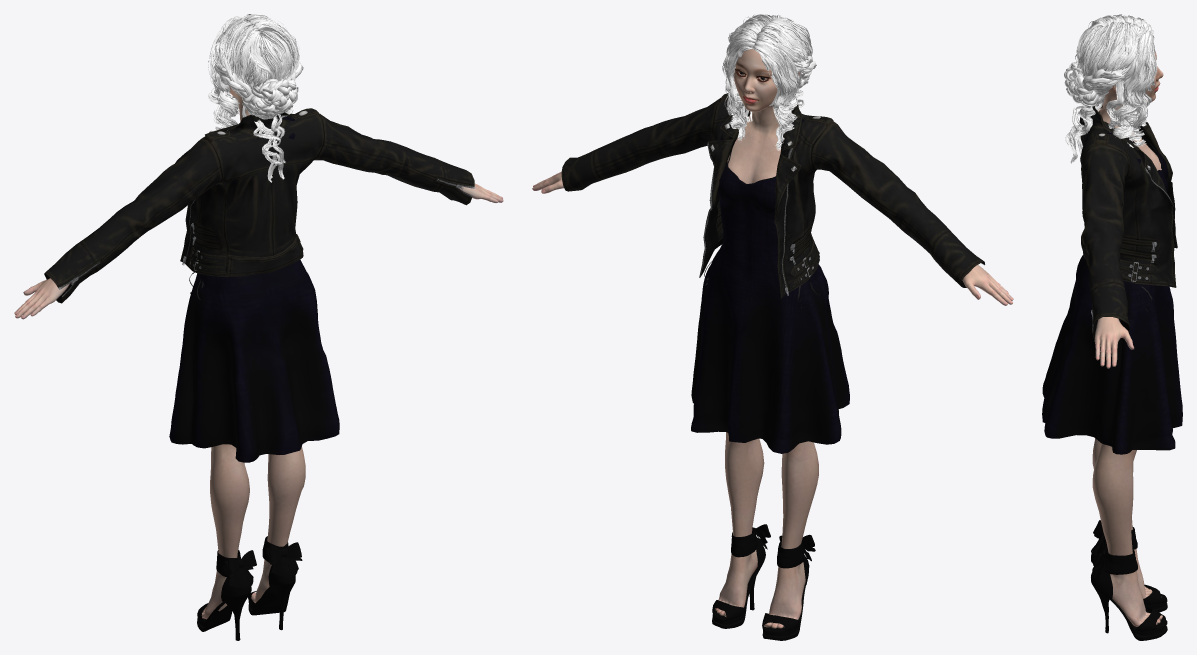
Rendered from girl3.fbx.
3 renders of one model, left to right at view 1: azimuth 30°, elevation 25°; view 2: azimuth 150°, elevation 25°; view 3: azimuth 270°, elevation 25°, orthographic.
Parts seen in each view (by area): view 1: Punk_Leather_Jacket_Punk_Leather_jacket_0, Dress_Dress_0, skin0, High_Heel_C_High_Heel_0, hair_13_338711_Shape_Hair_Transparency_0, hair_13_338711_Shape_Hair_Transparency_0_1, hair_13_338711_Shape_Hair_Transparency_0_4, hair_13_338711_Shape_Hair_Transparency_0_2, hair_13_338711_Shape_Hair_Transparency_0_3; view 2: Dress_Dress_0, Punk_Leather_Jacket_Punk_Leather_jacket_0, skin0, High_Heel_C_High_Heel_0, hair_13_338711_Shape_Hair_Transparency_0_4, hair_13_338711_Shape_Hair_Transparency_0, hair_13_338711_Shape_Hair_Transparency_0_2, hair_13_338711_Shape_Hair_Transparency_0_1, hair_13_338711_Shape_Hair_Transparency_0_3; view 3: Dress_Dress_0, Punk_Leather_Jacket_Punk_Leather_jacket_0, skin0, High_Heel_C_High_Heel_0, hair_13_338711_Shape_Hair_Transparency_0_1, hair_13_338711_Shape_Hair_Transparency_0_3, hair_13_338711_Shape_Hair_Transparency_0, hair_13_338711_Shape_Hair_Transparency_0_2, hair_13_338711_Shape_Hair_Transparency_0_4, hair_13_338711_Shape_Hair_Transparency_0_5.
Boxes of the visible parts, x1,y1,x2,y2 form: Punk_Leather_Jacket_Punk_Leather_jacket_0: [44, 108, 474, 303]; Dress_Dress_0: [169, 116, 339, 462]; skin0: [14, 86, 503, 619]; High_Heel_C_High_Heel_0: [197, 536, 302, 640]; hair_13_338711_Shape_Hair_Transparency_0: [212, 14, 303, 159]; hair_13_338711_Shape_Hair_Transparency_0_1: [209, 15, 299, 182]; hair_13_338711_Shape_Hair_Transparency_0_4: [208, 15, 298, 130]; hair_13_338711_Shape_Hair_Transparency_0_2: [208, 23, 297, 130]; hair_13_338711_Shape_Hair_Transparency_0_3: [214, 16, 298, 116]; Dress_Dress_0: [691, 119, 849, 453]; Punk_Leather_Jacket_Punk_Leather_jacket_0: [561, 93, 985, 298]; skin0: [532, 49, 1013, 628]; High_Heel_C_High_Heel_0: [712, 524, 815, 640]; hair_13_338711_Shape_Hair_Transparency_0_4: [724, 17, 816, 146]; hair_13_338711_Shape_Hair_Transparency_0: [728, 15, 812, 106]; hair_13_338711_Shape_Hair_Transparency_0_2: [722, 28, 808, 150]; hair_13_338711_Shape_Hair_Transparency_0_1: [729, 14, 811, 143]; hair_13_338711_Shape_Hair_Transparency_0_3: [722, 17, 812, 124]; Dress_Dress_0: [1042, 108, 1182, 454]; Punk_Leather_Jacket_Punk_Leather_jacket_0: [1079, 104, 1177, 337]; skin0: [1085, 51, 1163, 626]; High_Heel_C_High_Heel_0: [1091, 520, 1167, 640]; hair_13_338711_Shape_Hair_Transparency_0_1: [1065, 15, 1152, 163]; hair_13_338711_Shape_Hair_Transparency_0_3: [1068, 19, 1157, 147]; hair_13_338711_Shape_Hair_Transparency_0: [1066, 14, 1155, 147]; hair_13_338711_Shape_Hair_Transparency_0_2: [1064, 21, 1151, 134]; hair_13_338711_Shape_Hair_Transparency_0_4: [1068, 17, 1153, 145]; hair_13_338711_Shape_Hair_Transparency_0_5: [1066, 21, 1151, 146].
Bounding box in the file's own units: 275 × 329 × 69.69.
21 materials, 21 textured.
